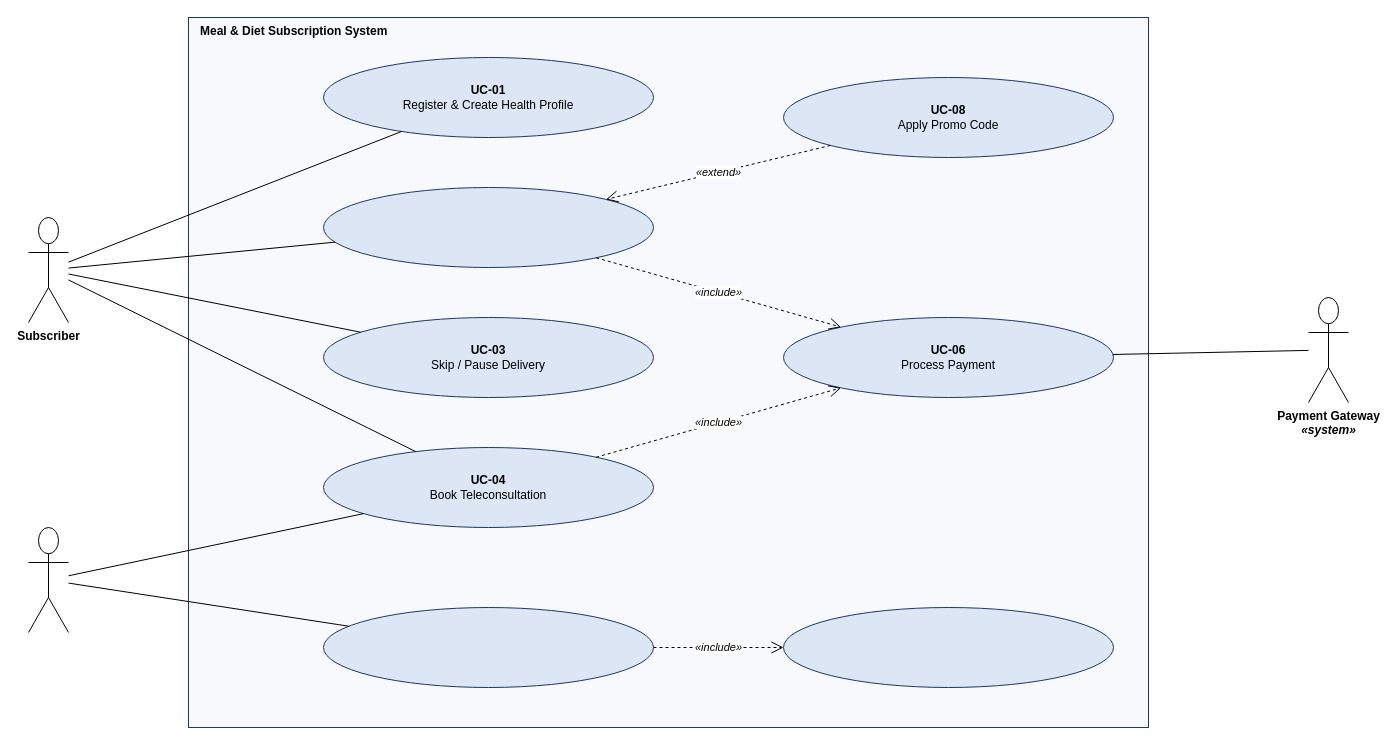
The diagram is 1397 pixels wide and 745 high, and some of its shapes have lost their labels. Here are the shapes that lost their labels. From the top down, the box of each, then its label:
(322, 186, 654, 268): UC-02 Subscribe to Meal Plan
(28, 526, 68, 632): Dietitian
(322, 606, 654, 688): UC-05 Create Personalised Meal Plan
(782, 606, 1114, 688): UC-07 Validate Allergens & Restrictions
